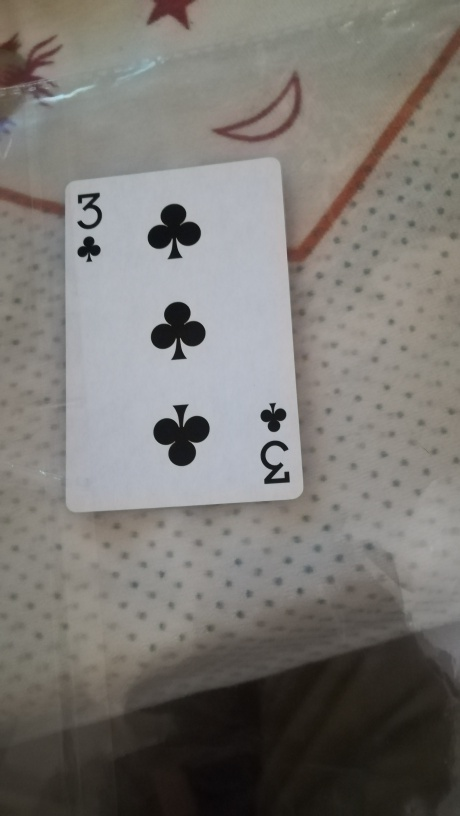mh 3: (62, 157, 303, 510)
